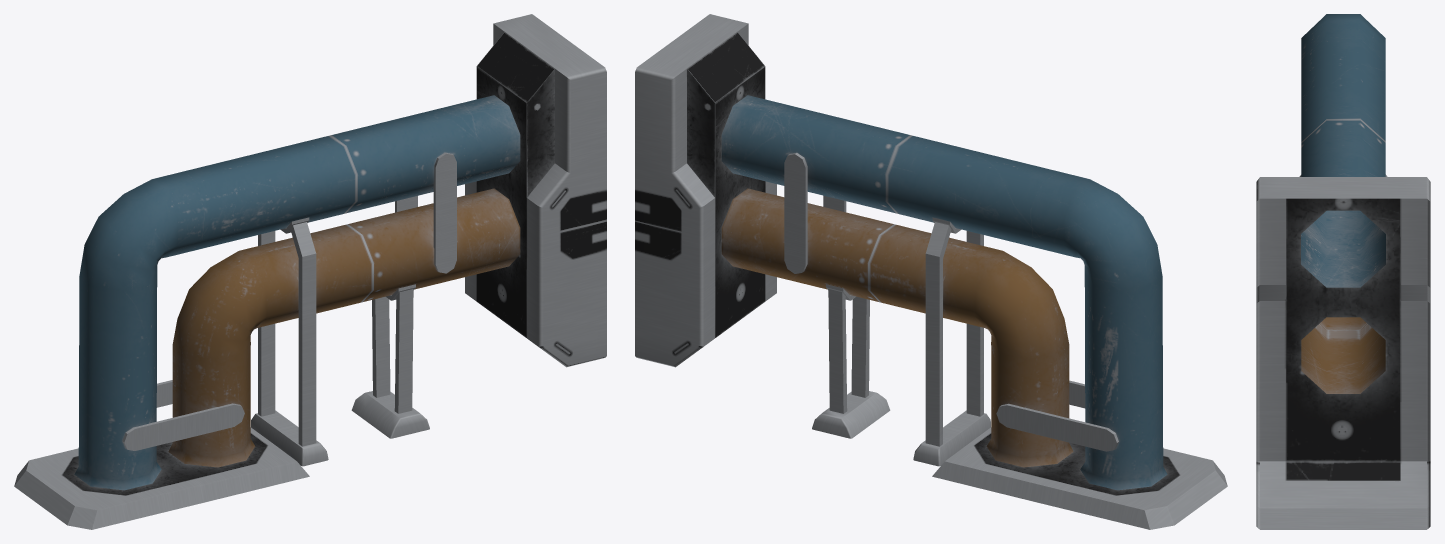
File: pipes.fbx
The picture shows the model from 3 angles, left to right: view 1: azimuth 30°, elevation 25°; view 2: azimuth 150°, elevation 25°; view 3: azimuth 270°, elevation 25°; orthographic projection. The views are drawn at different scales.
Visible parts, largest first — view 1: pipes:pipes_pipes, pipes:support_support, pipes:hooks_hooks; view 2: pipes:pipes_pipes, pipes:support_support, pipes:hooks_hooks; view 3: pipes:pipes_pipes.
Part boxes in pixels (x1=…): pipes:pipes_pipes: x1=14, y1=14, x2=606, y2=529; pipes:support_support: x1=251, y1=217, x2=429, y2=466; pipes:hooks_hooks: x1=122, y1=152, x2=456, y2=450; pipes:pipes_pipes: x1=635, y1=14, x2=1227, y2=529; pipes:support_support: x1=812, y1=217, x2=990, y2=466; pipes:hooks_hooks: x1=784, y1=152, x2=1118, y2=451; pipes:pipes_pipes: x1=1256, y1=14, x2=1430, y2=529.
Size of the model in its own units: 0.156 by 0.095 by 0.0391.
1 material, 1 textured.
